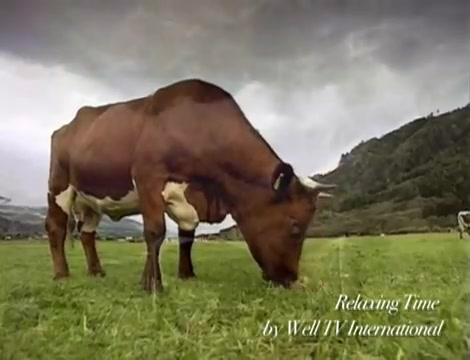cow: (45, 79, 339, 296)
